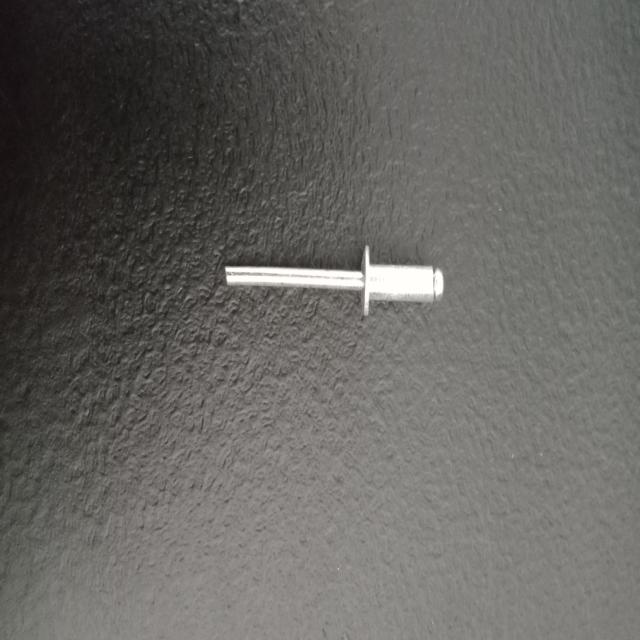rivet: (225, 245, 444, 318)
